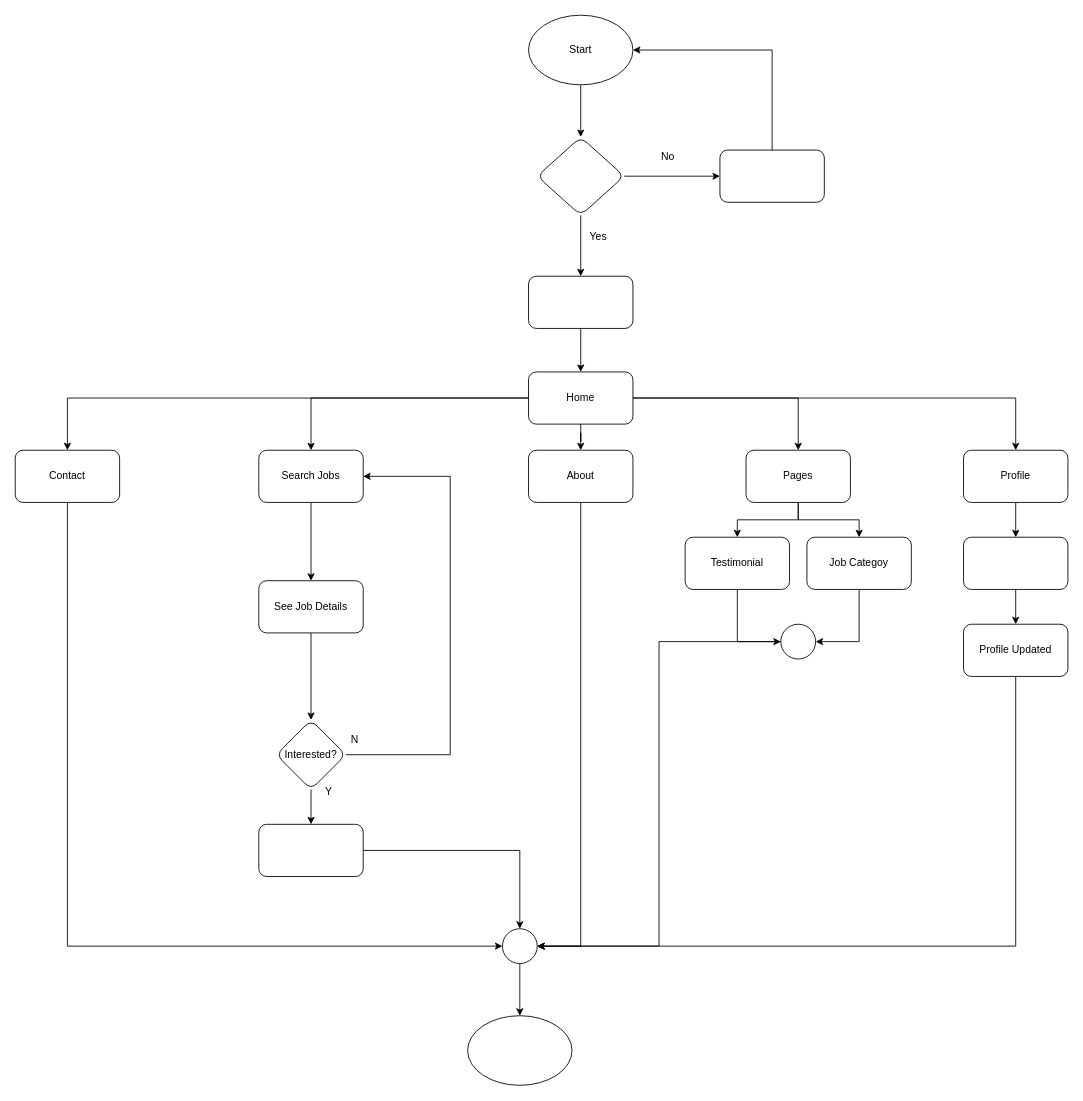
This 1083x1101 diagram has some shape labels left out. Here are the shapes that lost their labels. From the top down, the centre of each, then its label:
At [580,175]: "Have an account?".
At [771,175]: "Register".
At [580,301]: "Login".
At [1015,562]: "Edit Profile".
At [310,850]: "Apply".
At [519,1050]: "Logout/End".
